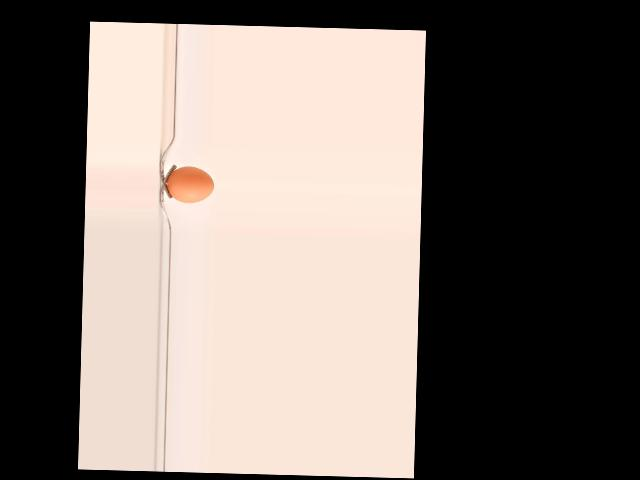egg: (166, 166, 213, 204)
